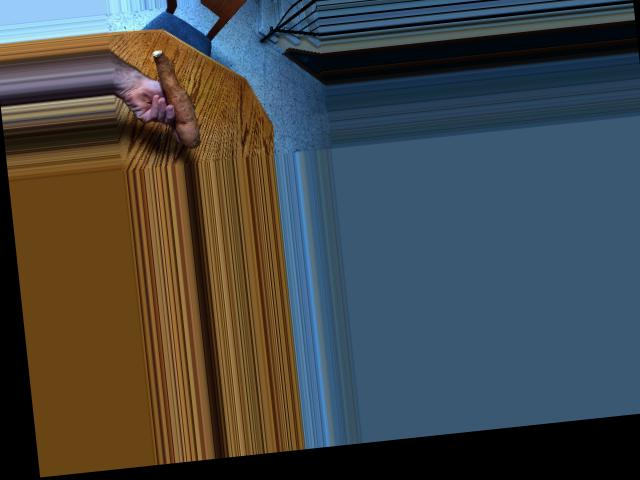sweet_potato: (151, 42, 207, 148)
